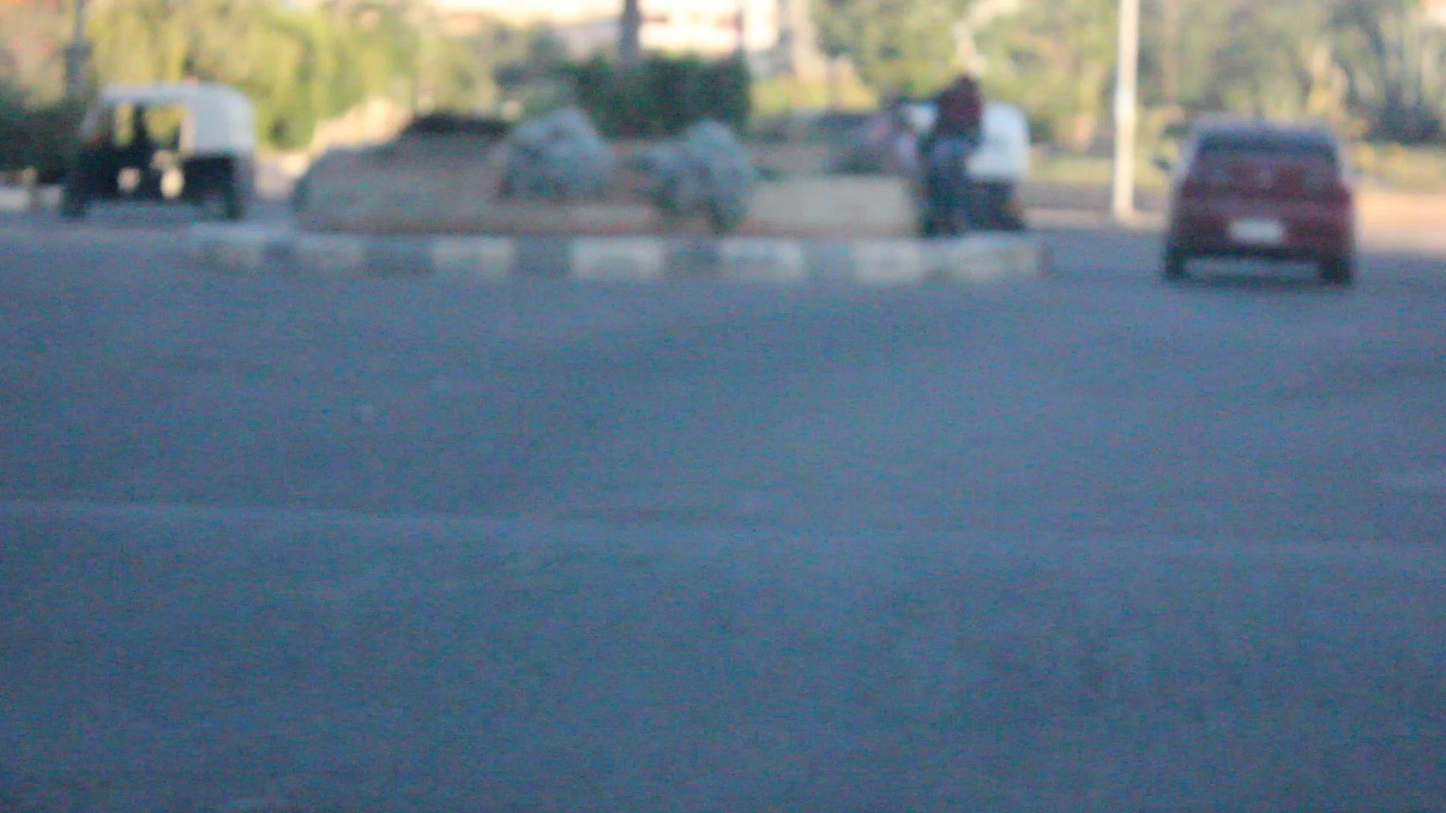Bump: (15, 495, 1446, 813)
